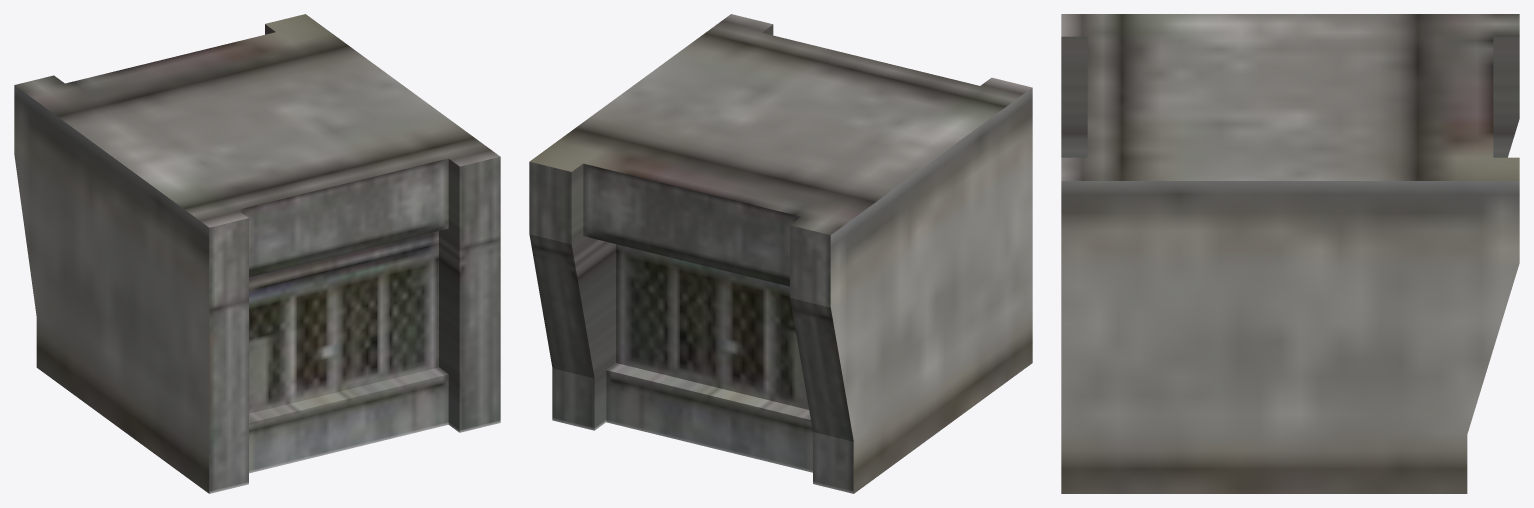
The model's file is akbildolumyeri.fbx.
3 views of the same model, side by side, from view 1: azimuth 30°, elevation 25°; view 2: azimuth 150°, elevation 25°; view 3: azimuth 270°, elevation 25° (orthographic). The views are drawn at different scales.
Parts seen in each view (by area): view 1: cardcredit; view 2: cardcredit; view 3: cardcredit.
Part boxes in pixels (x1,y1,x2,y2): cardcredit: (14, 14, 500, 493); cardcredit: (529, 14, 1032, 493); cardcredit: (1061, 14, 1519, 493).
Size of the model in its own units: 5.8 by 6.72 by 5.06.
Materials: 1 (1 with a texture image).
